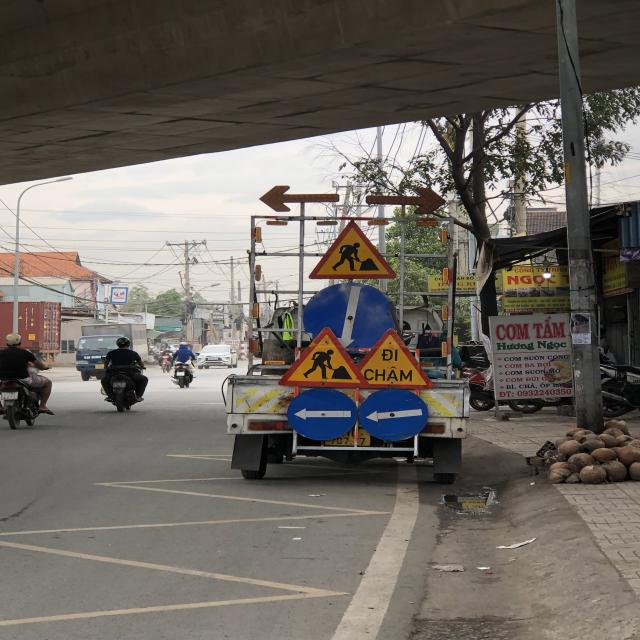Bien bao cong truong: (307, 216, 403, 281), (278, 325, 371, 392)
